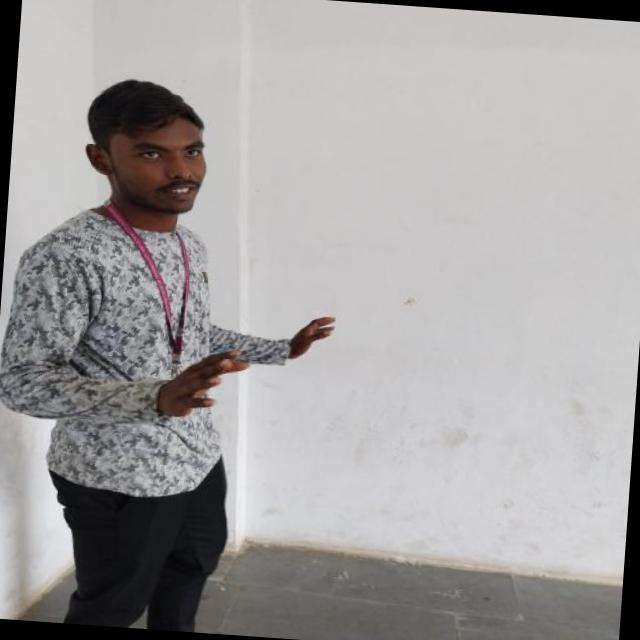id_card: (97, 198, 196, 376)
